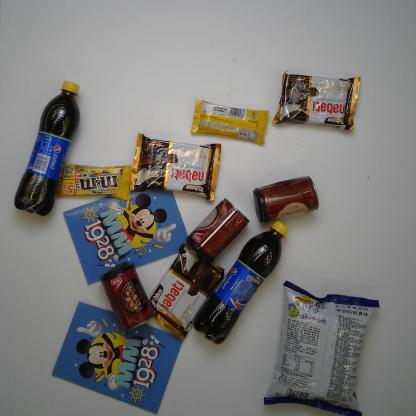Canned Food: (185, 198, 251, 263), (98, 261, 155, 331), (251, 175, 320, 223)
Chocolate: (190, 97, 271, 147), (57, 164, 131, 200)
Dessert: (151, 242, 225, 342), (130, 134, 222, 200), (272, 70, 362, 130)
Drink: (192, 219, 290, 345), (12, 80, 81, 217)
Puffed Food: (263, 279, 379, 416)
Stationery: (50, 300, 182, 414), (62, 189, 190, 286)
